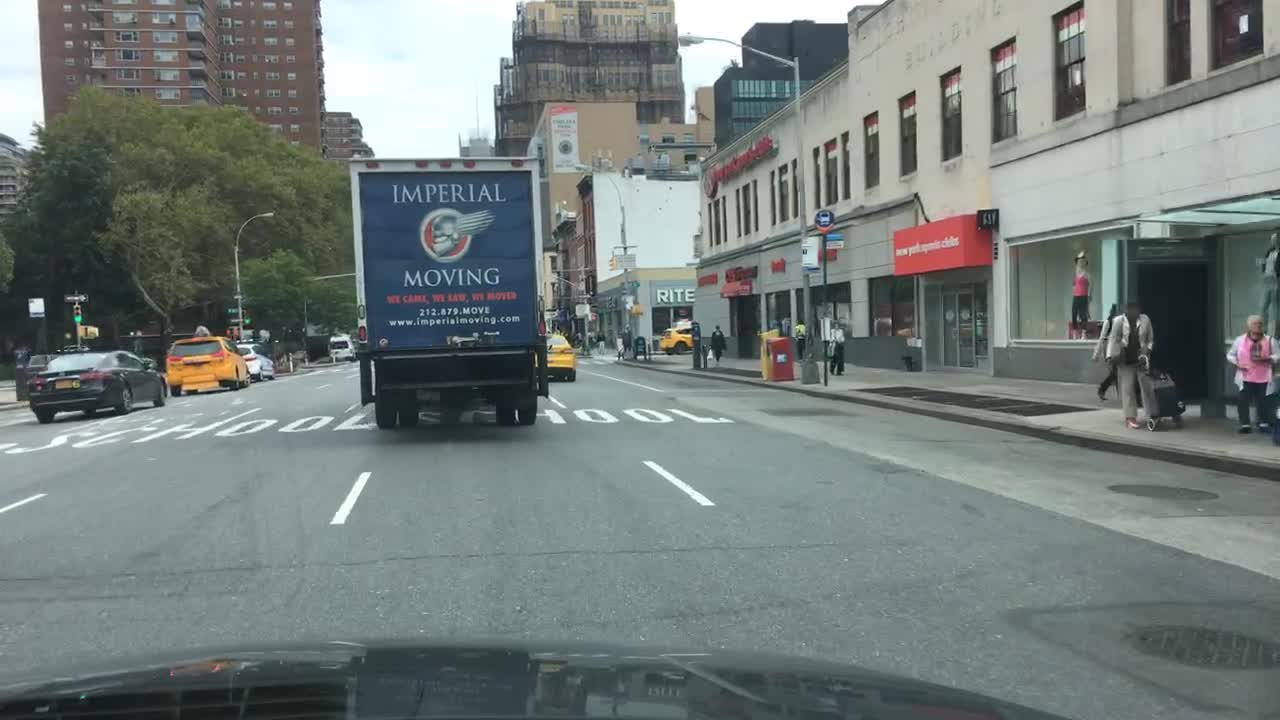car: (26, 347, 166, 420), (163, 334, 250, 396), (533, 330, 576, 380), (20, 351, 62, 398), (234, 340, 278, 379), (658, 319, 693, 354), (324, 332, 355, 360), (59, 344, 93, 354), (351, 338, 362, 356)
person: (1106, 296, 1159, 430), (1224, 311, 1276, 433), (1089, 301, 1131, 401), (827, 320, 845, 375), (706, 323, 726, 363), (792, 317, 809, 362), (621, 323, 632, 355), (596, 328, 605, 353), (588, 330, 596, 346)
traffic light: (79, 325, 98, 338), (71, 304, 82, 321), (629, 304, 641, 314), (242, 310, 250, 322), (225, 326, 235, 334), (590, 312, 598, 320)
traffic sign: (798, 234, 818, 272), (813, 207, 834, 232), (613, 253, 636, 268), (823, 231, 842, 249), (28, 296, 44, 317), (64, 293, 88, 302), (574, 302, 589, 315), (626, 280, 642, 287), (232, 293, 244, 299), (624, 295, 633, 302), (227, 307, 237, 313), (230, 317, 242, 322)
truck: (344, 153, 548, 427)
